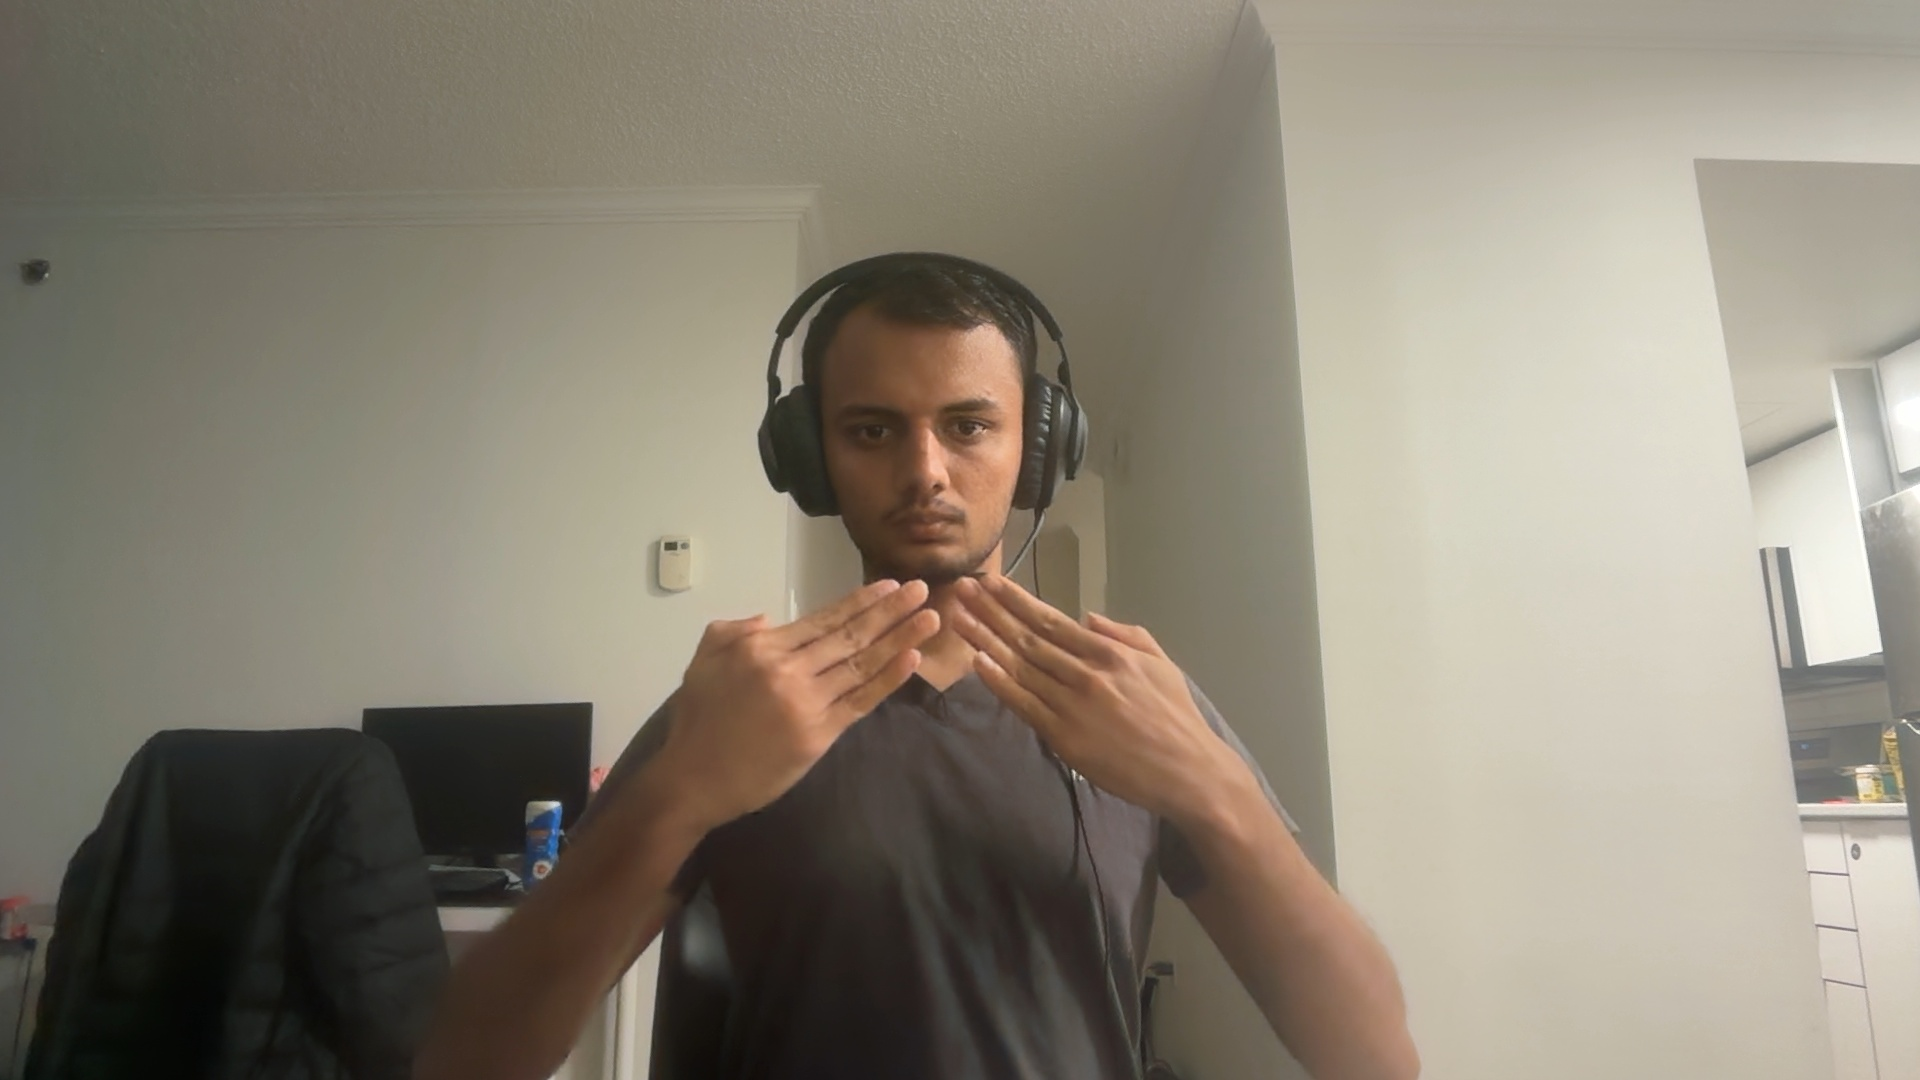thankyou: (667, 578, 1217, 828)
